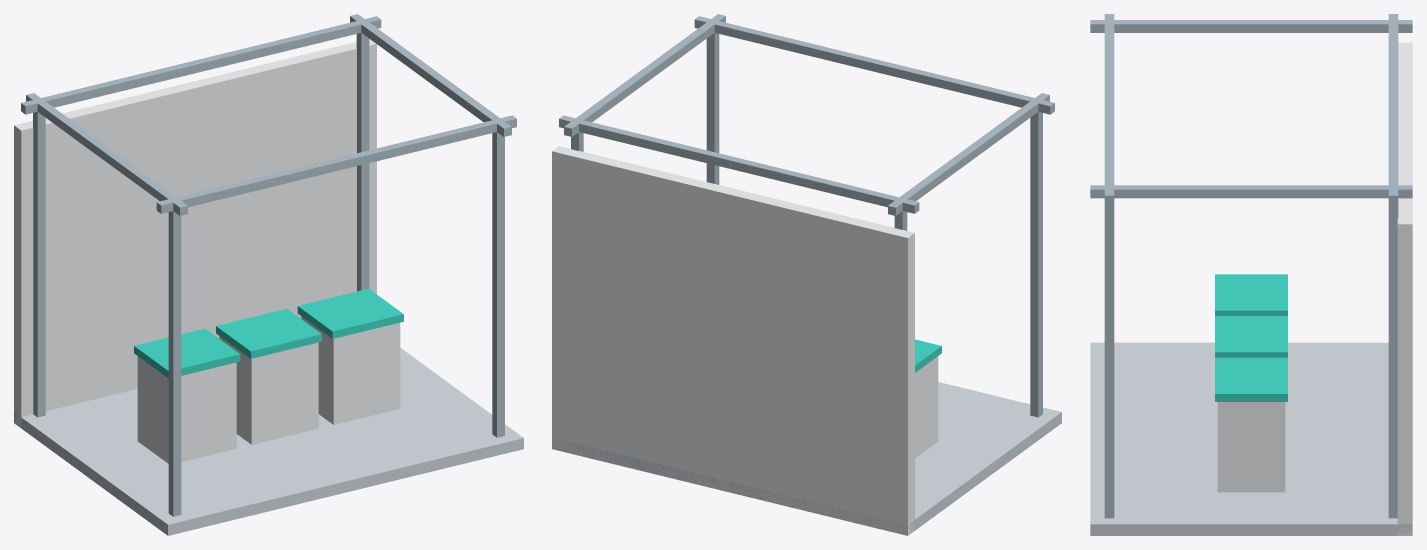
3 renders of one model, left to right at view 1: azimuth 30°, elevation 25°; view 2: azimuth 150°, elevation 25°; view 3: azimuth 270°, elevation 25°, orthographic. The views are drawn at different scales.
Parts seen in each view (by area): view 1: Exhibition Booth Concept; view 2: Exhibition Booth Concept; view 3: Exhibition Booth Concept.
Boxes of the visible parts, x1=… form: Exhibition Booth Concept: x1=14, y1=14, x2=523, y2=535; Exhibition Booth Concept: x1=552, y1=14, x2=1061, y2=535; Exhibition Booth Concept: x1=1090, y1=14, x2=1412, y2=535.
Bounding box in the file's own units: 4 × 3.49 × 3.
